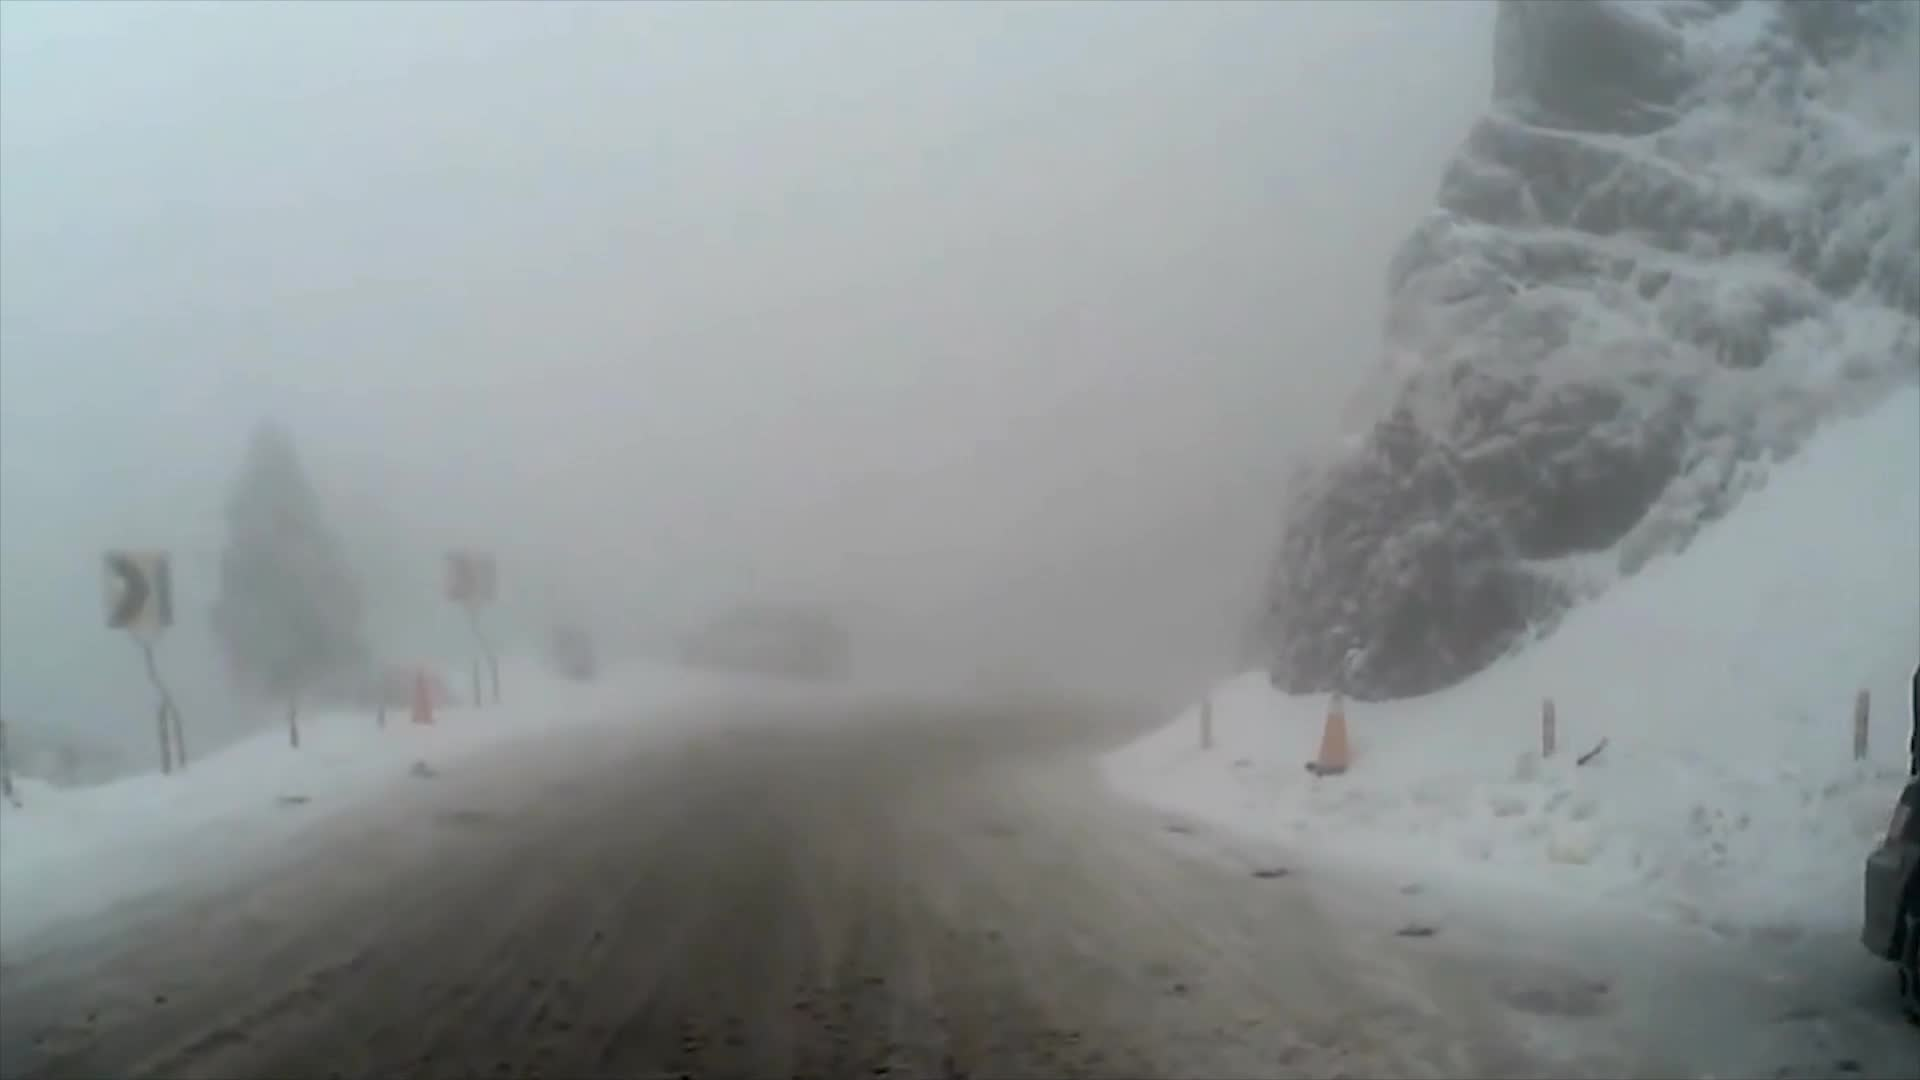vehicle: (1858, 779, 1919, 1007)
